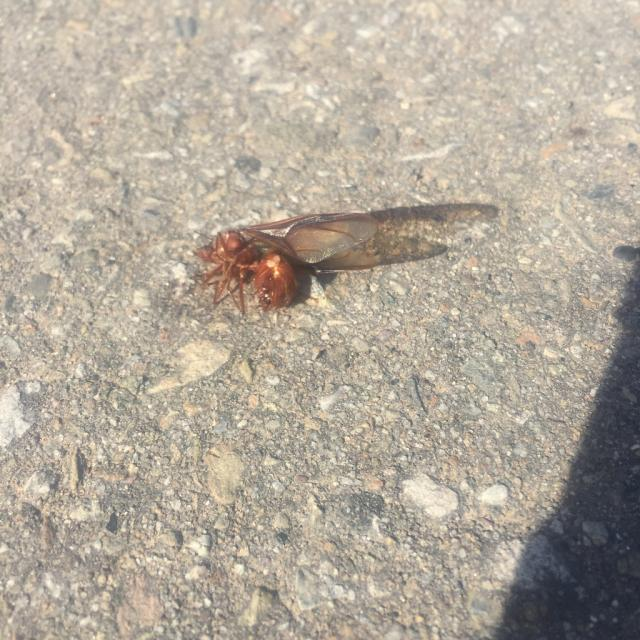Dead-Male-Alate: (191, 210, 380, 321)
